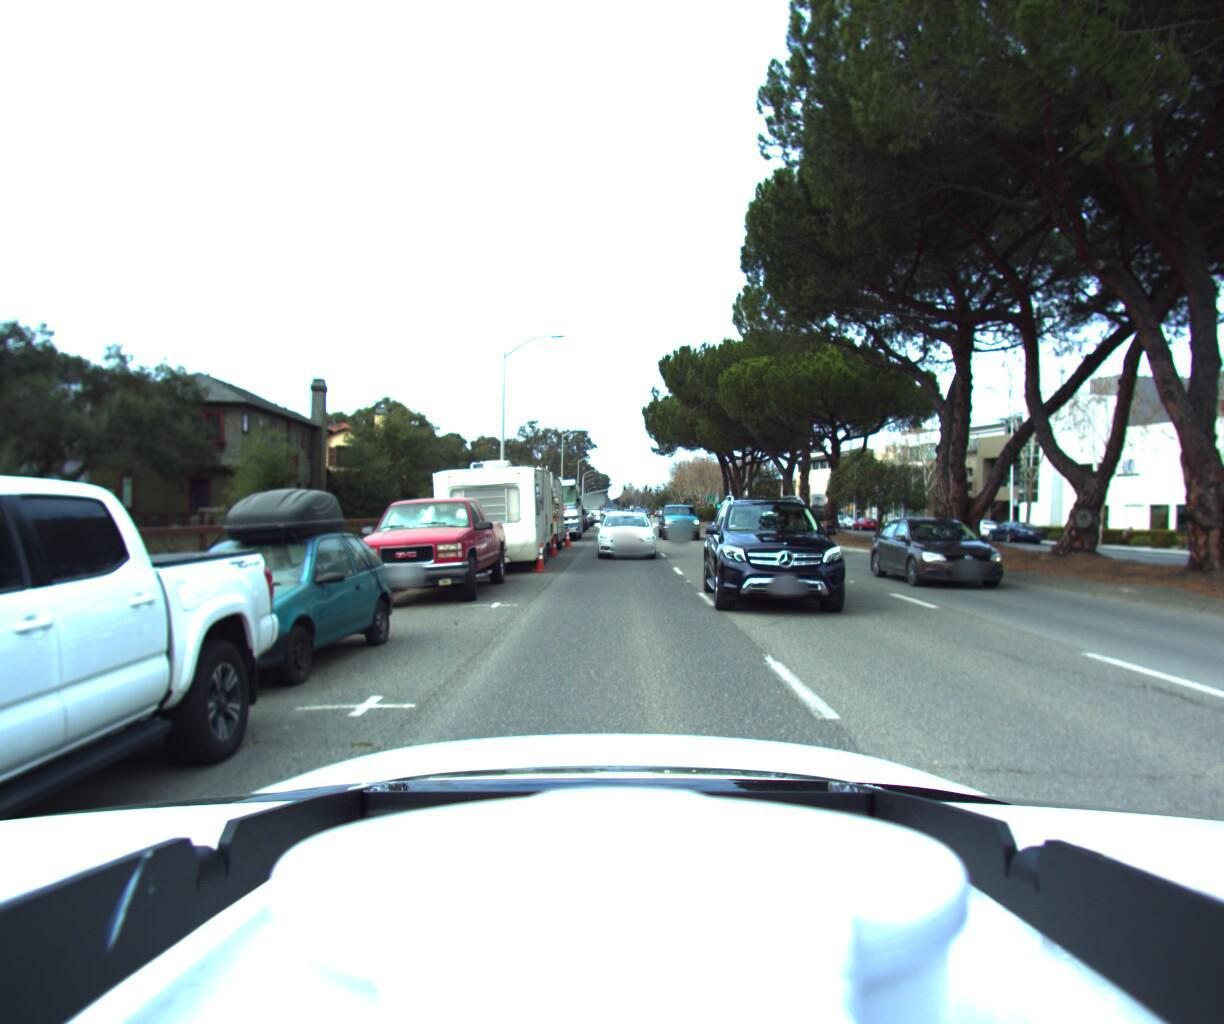car: (74, 474, 395, 710), (700, 488, 861, 633), (332, 492, 509, 612), (879, 511, 1051, 596), (594, 508, 654, 559), (1178, 519, 1224, 563), (658, 501, 703, 543), (979, 518, 1043, 544), (952, 518, 1006, 541)
other_vehicle: (413, 433, 554, 579), (469, 469, 568, 557), (519, 475, 582, 543)
